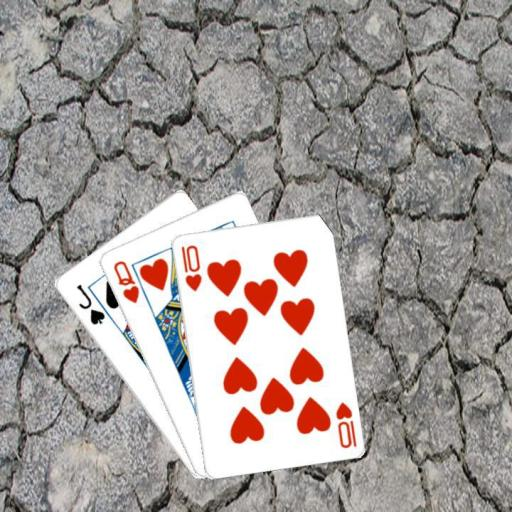10H: (332, 399, 358, 450), (177, 242, 203, 292)
JS: (73, 281, 107, 326)
QH: (109, 257, 141, 305)
